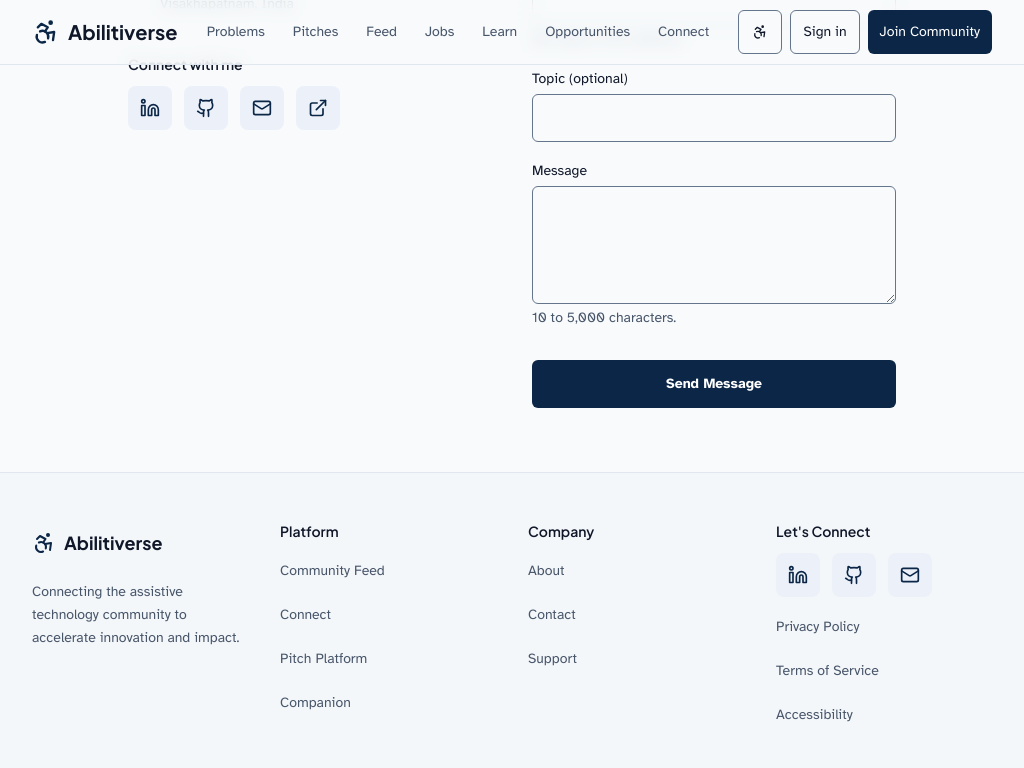
Test case: Contact › does not send an invalid form, and moves focus to the first problem
(page scrolled)
Click the button "Send Message" at [714, 384], box 532,360 -> 896,408
(page scrolled)
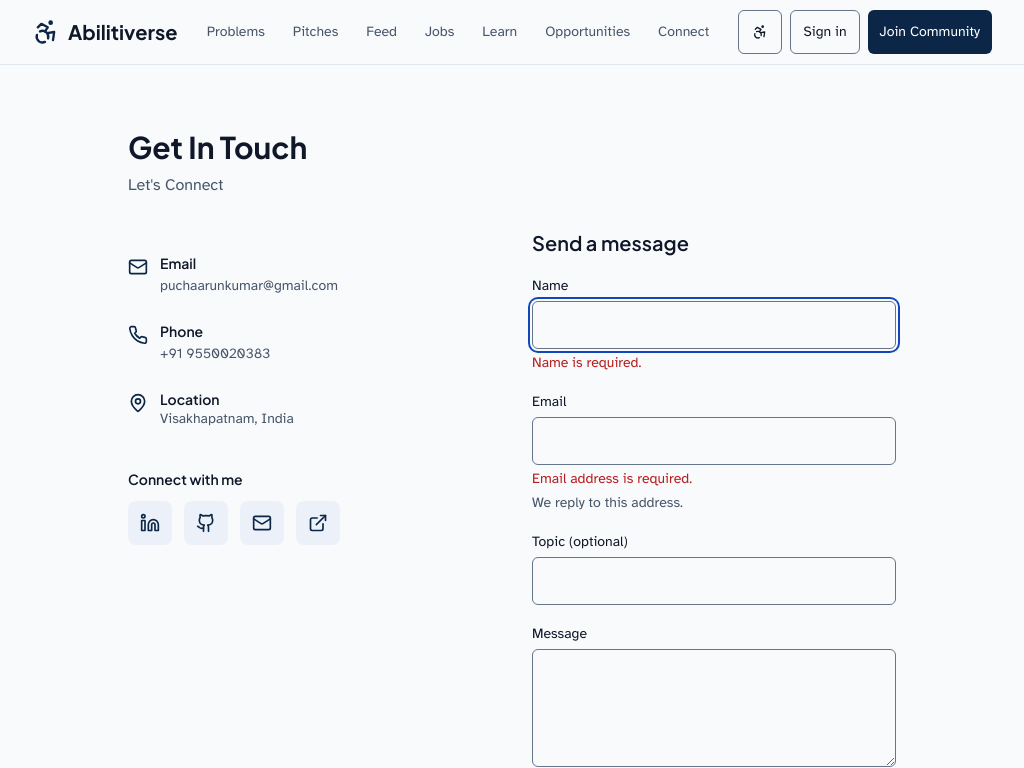
Result: the text "Name is required." is shown at 532,354 -> 641,371
